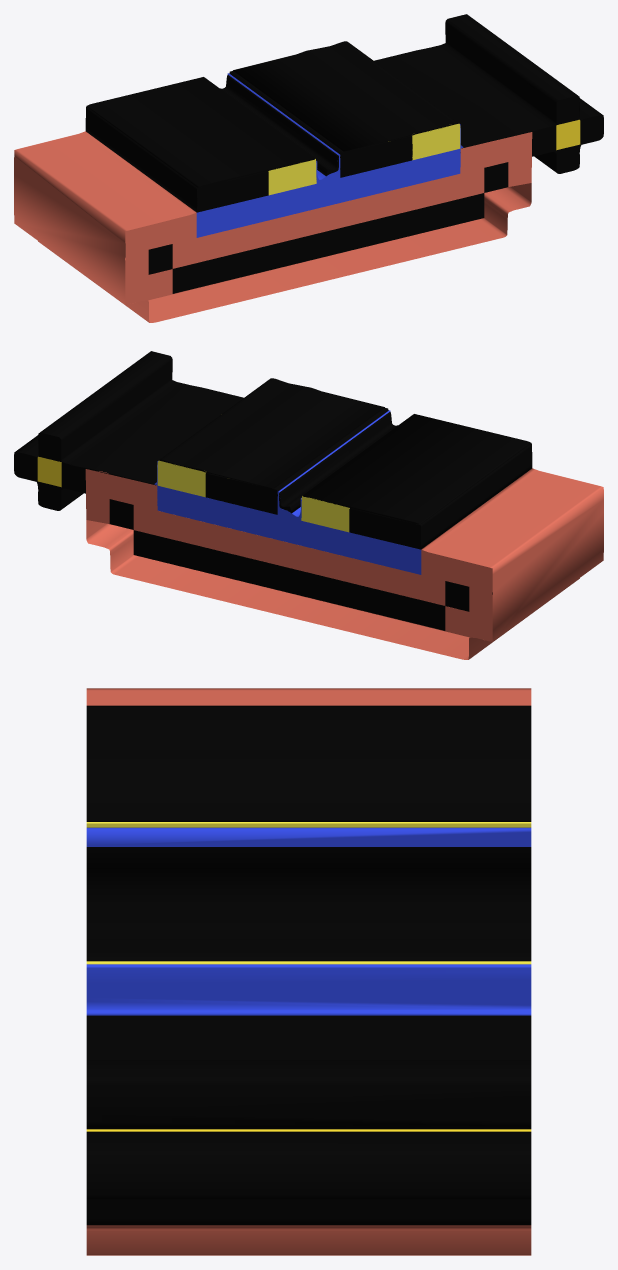
Rendered from Toadz_6782.glb.
3 views of the same model, one above another, from view 1: azimuth 30°, elevation 25°; view 2: azimuth 150°, elevation 25°; view 3: azimuth 270°, elevation 25° (orthographic). The views are drawn at different scales.
Parts seen in each view (by area): view 1: Curve; view 2: Curve; view 3: Curve.
Boxes of the visible parts, left/top/right/bottom form: Curve: left=14, top=14, right=603, bottom=322; Curve: left=14, top=351, right=603, bottom=659; Curve: left=86, top=688, right=531, bottom=1255.
Bounding box in the file's own units: 2.49 × 0.6283 × 1.
